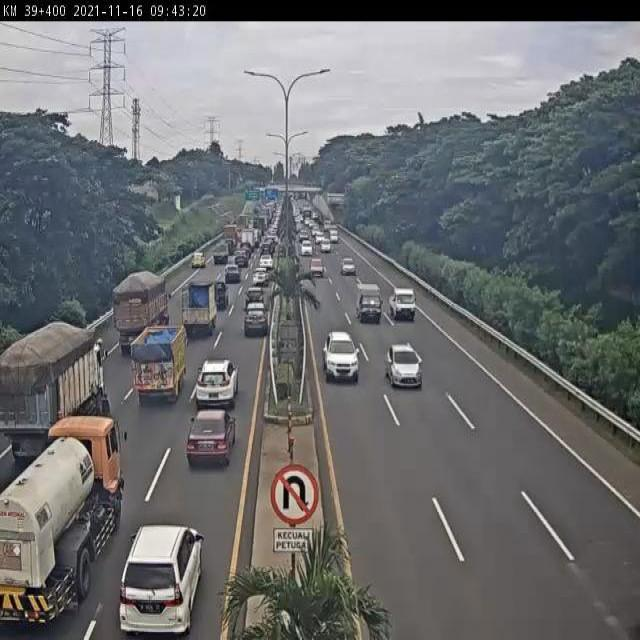car: (119, 524, 206, 640), (185, 406, 235, 471), (194, 358, 239, 410), (320, 331, 360, 384), (384, 344, 424, 389), (354, 283, 382, 325), (388, 285, 417, 323), (243, 301, 269, 340), (244, 284, 266, 315), (211, 277, 230, 311), (252, 266, 269, 290), (309, 256, 325, 280), (340, 256, 357, 277), (224, 263, 240, 285), (189, 250, 206, 270)
small truck: (131, 323, 190, 413), (180, 279, 217, 340)
truck-m-: (0, 415, 123, 629), (0, 321, 109, 464), (114, 269, 170, 368)
